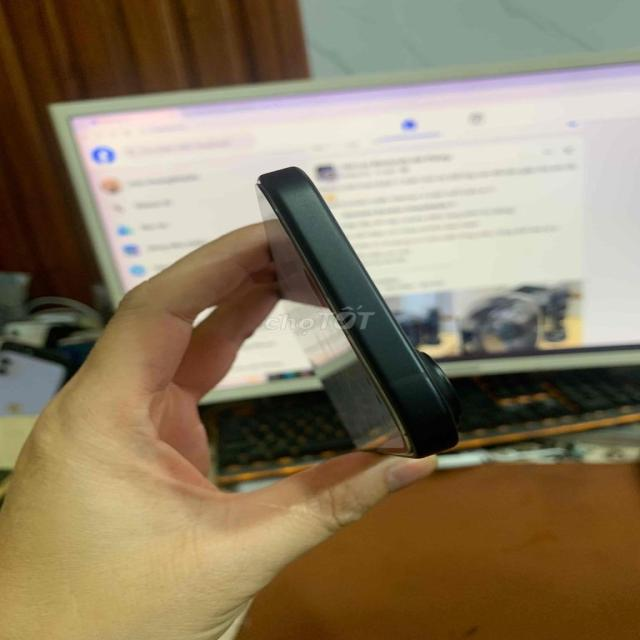gen_16: (257, 167, 459, 458)
